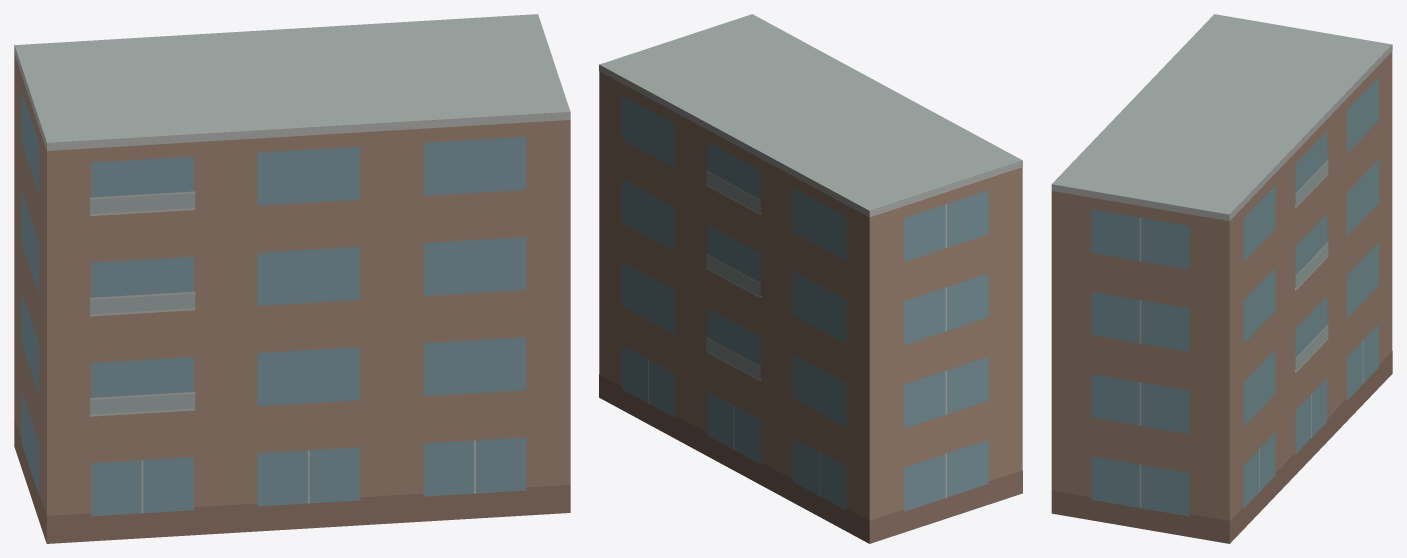
File: residential-c1c65a16-4f40-435b-a545-7c71fb903552.glb
The picture shows the model from 3 angles, left to right: view 1: azimuth 30°, elevation 25°; view 2: azimuth 150°, elevation 25°; view 3: azimuth 270°, elevation 25°; orthographic projection. The views are drawn at different scales.
Visible parts, largest first — view 1: residential-c1c65a16-4f40-435b-a545-7c71fb903552.tmp; view 2: residential-c1c65a16-4f40-435b-a545-7c71fb903552.tmp; view 3: residential-c1c65a16-4f40-435b-a545-7c71fb903552.tmp.
Part boxes in pixels (bbox=[...]): residential-c1c65a16-4f40-435b-a545-7c71fb903552.tmp: bbox=[14, 14, 570, 543]; residential-c1c65a16-4f40-435b-a545-7c71fb903552.tmp: bbox=[599, 14, 1022, 543]; residential-c1c65a16-4f40-435b-a545-7c71fb903552.tmp: bbox=[1051, 14, 1392, 543].
Bounding box in the file's own units: 15.95 × 12.2 × 11.45.
